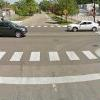Crosswalk: (7, 41, 95, 68)
